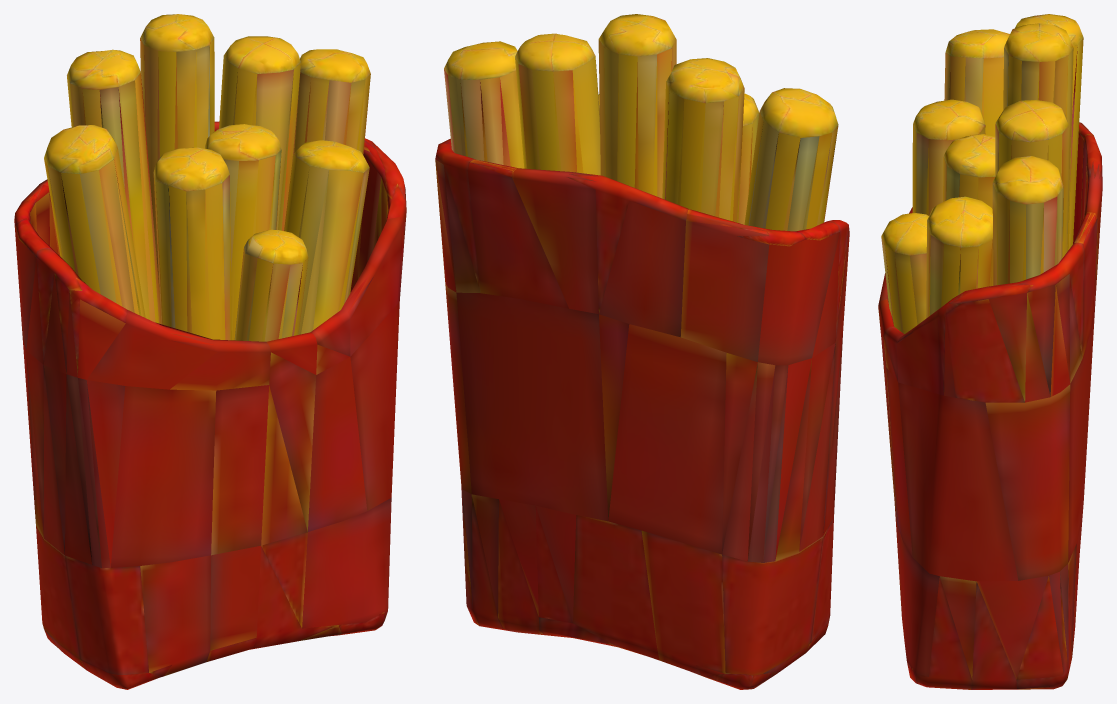
The model's file is fries.glb.
3 renders of one model, left to right at view 1: azimuth 30°, elevation 25°; view 2: azimuth 150°, elevation 25°; view 3: azimuth 270°, elevation 25°, orthographic. The views are drawn at different scales.
Parts seen in each view (by area): view 1: geometry_0; view 2: geometry_0; view 3: geometry_0.
Part boxes in pixels (box(x1,y1,x2,y2)): geometry_0: box(14, 14, 406, 689); geometry_0: box(435, 14, 849, 689); geometry_0: box(878, 14, 1102, 689).
Size of the model in its own units: 0.629 by 0.9995 by 0.3443.
1 material, 1 textured.
